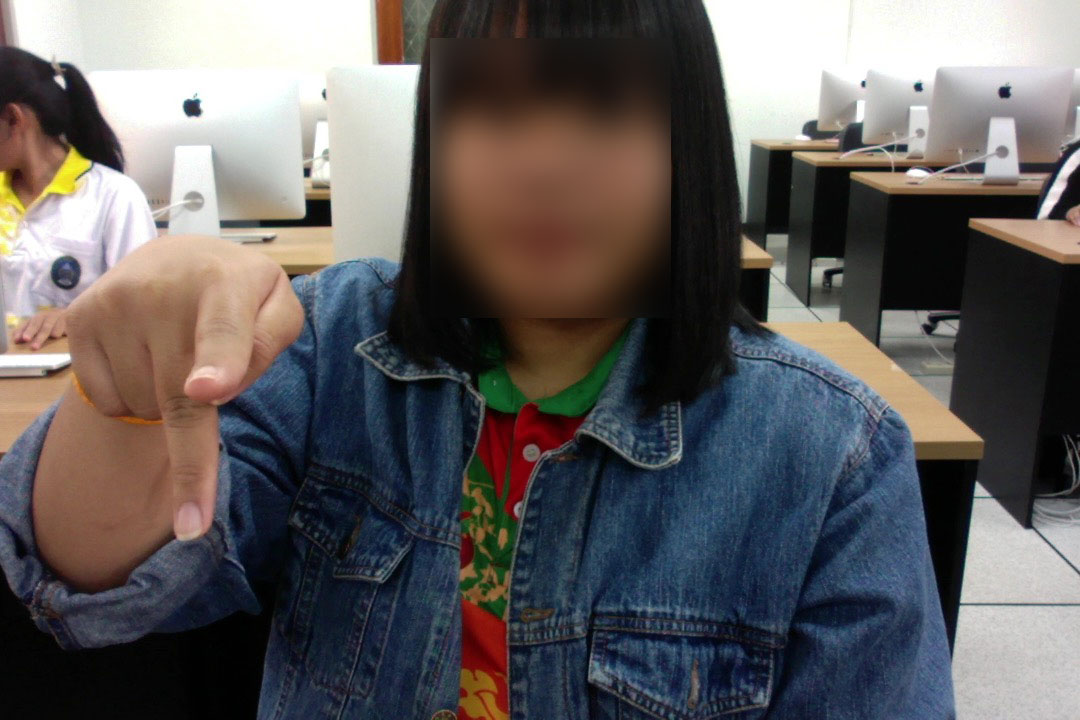por: (40, 220, 309, 546)
